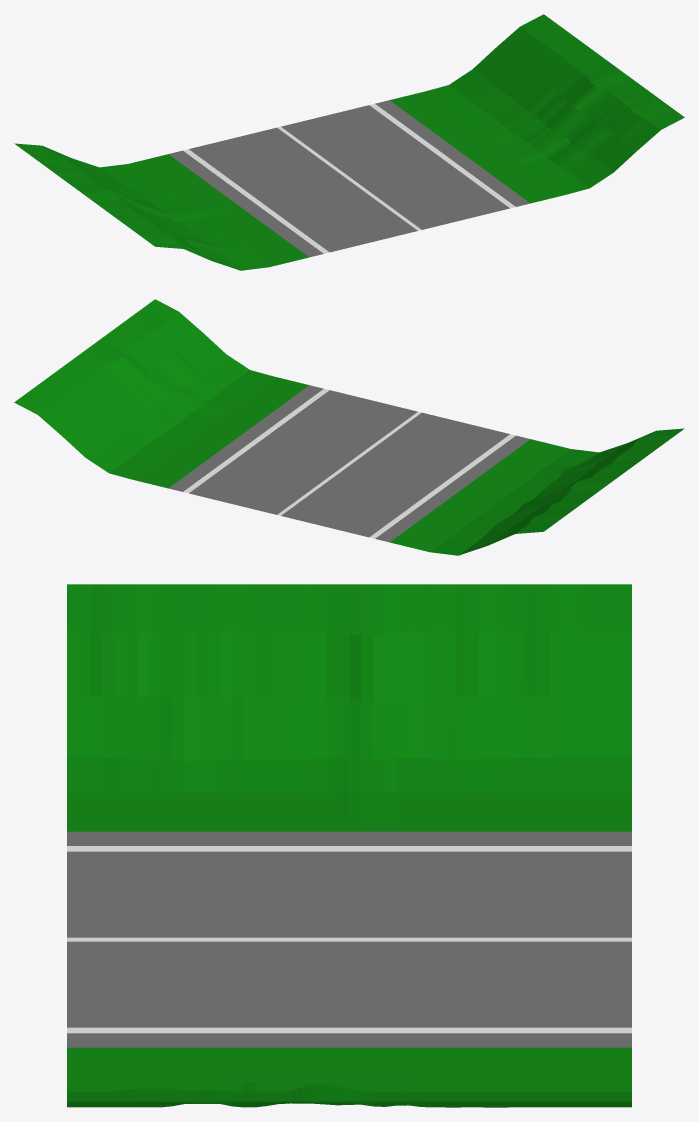
The model's file is road11.fbx.
3 views of the same model, one above another, from view 1: azimuth 30°, elevation 25°; view 2: azimuth 150°, elevation 25°; view 3: azimuth 270°, elevation 25° (orthographic). The views are drawn at different scales.
Visible parts, largest first — view 1: Plane; view 2: Plane; view 3: Plane.
Boxes of the visible parts, x1=… form: Plane: x1=14, y1=14, x2=684, y2=270; Plane: x1=14, y1=299, x2=684, y2=555; Plane: x1=67, y1=584, x2=631, y2=1107.
Size of the model in its own units: 26 by 12 by 2.27.
